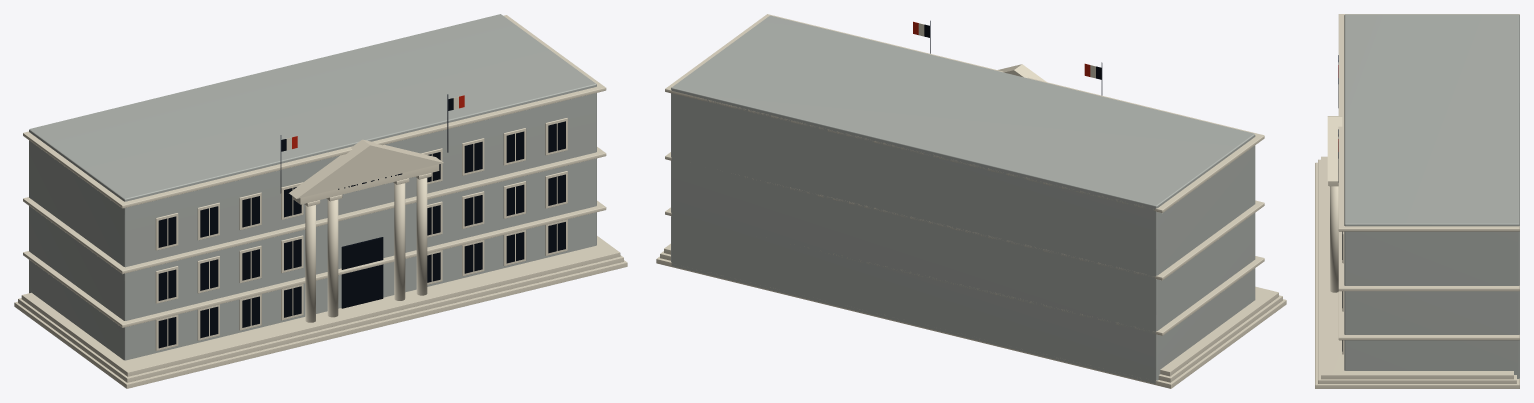
The model's file is prefecture.glb.
3 renders of one model, left to right at view 1: azimuth 30°, elevation 25°; view 2: azimuth 150°, elevation 25°; view 3: azimuth 270°, elevation 25°, orthographic. The views are drawn at different scales.
Parts seen in each view (by area): view 1: prefecture; view 2: prefecture; view 3: prefecture.
Boxes of the visible parts, x1,y1,x2,y2 form: prefecture: [14, 14, 627, 388]; prefecture: [656, 14, 1286, 388]; prefecture: [1315, 14, 1519, 388].
Bounding box in the file's own units: 36 × 14 × 14.
1 material, 1 textured.
